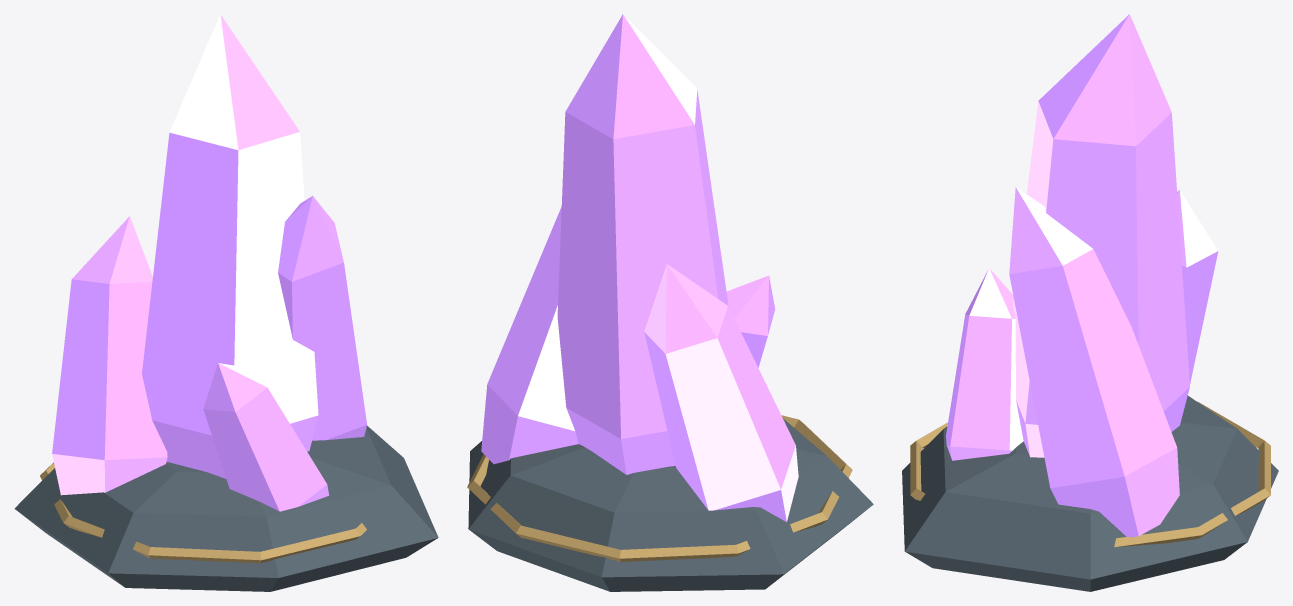
File: amethyst_cluster.glb
3 renders of one model, left to right at view 1: azimuth 30°, elevation 25°; view 2: azimuth 150°, elevation 25°; view 3: azimuth 270°, elevation 25°, orthographic. The views are drawn at different scales.
Visible parts, largest first — view 1: amethyst_cluster_Geometry; view 2: amethyst_cluster_Geometry; view 3: amethyst_cluster_Geometry.
Boxes of the visible parts, box(x1,y1,x2,y2) form: amethyst_cluster_Geometry: box(14, 14, 438, 591); amethyst_cluster_Geometry: box(467, 14, 873, 591); amethyst_cluster_Geometry: box(902, 14, 1278, 591).
Size of the model in its own units: 1.49 by 2.06 by 1.38.
